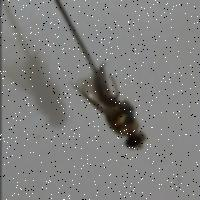Oriental-fruit-fly: (60, 59, 154, 154)
